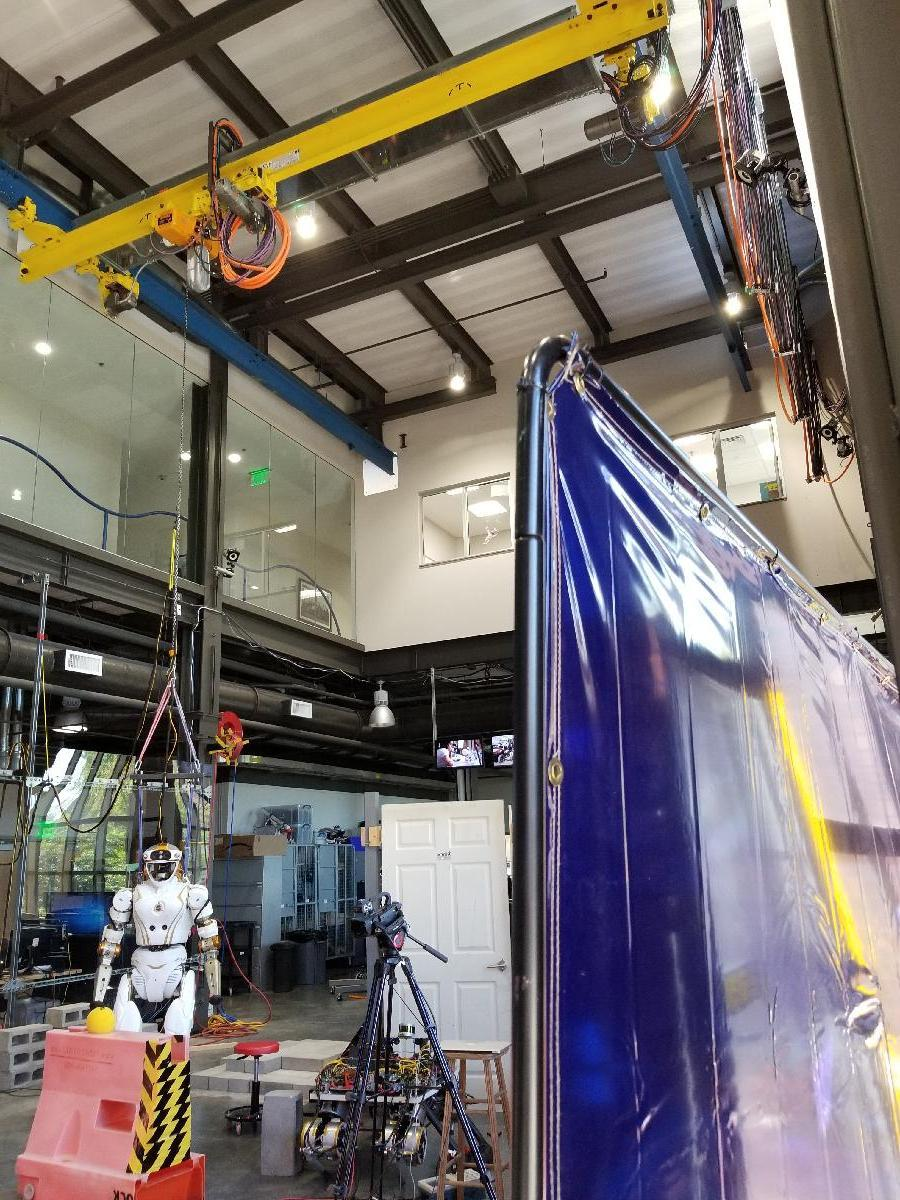door: (381, 801, 509, 1051)
